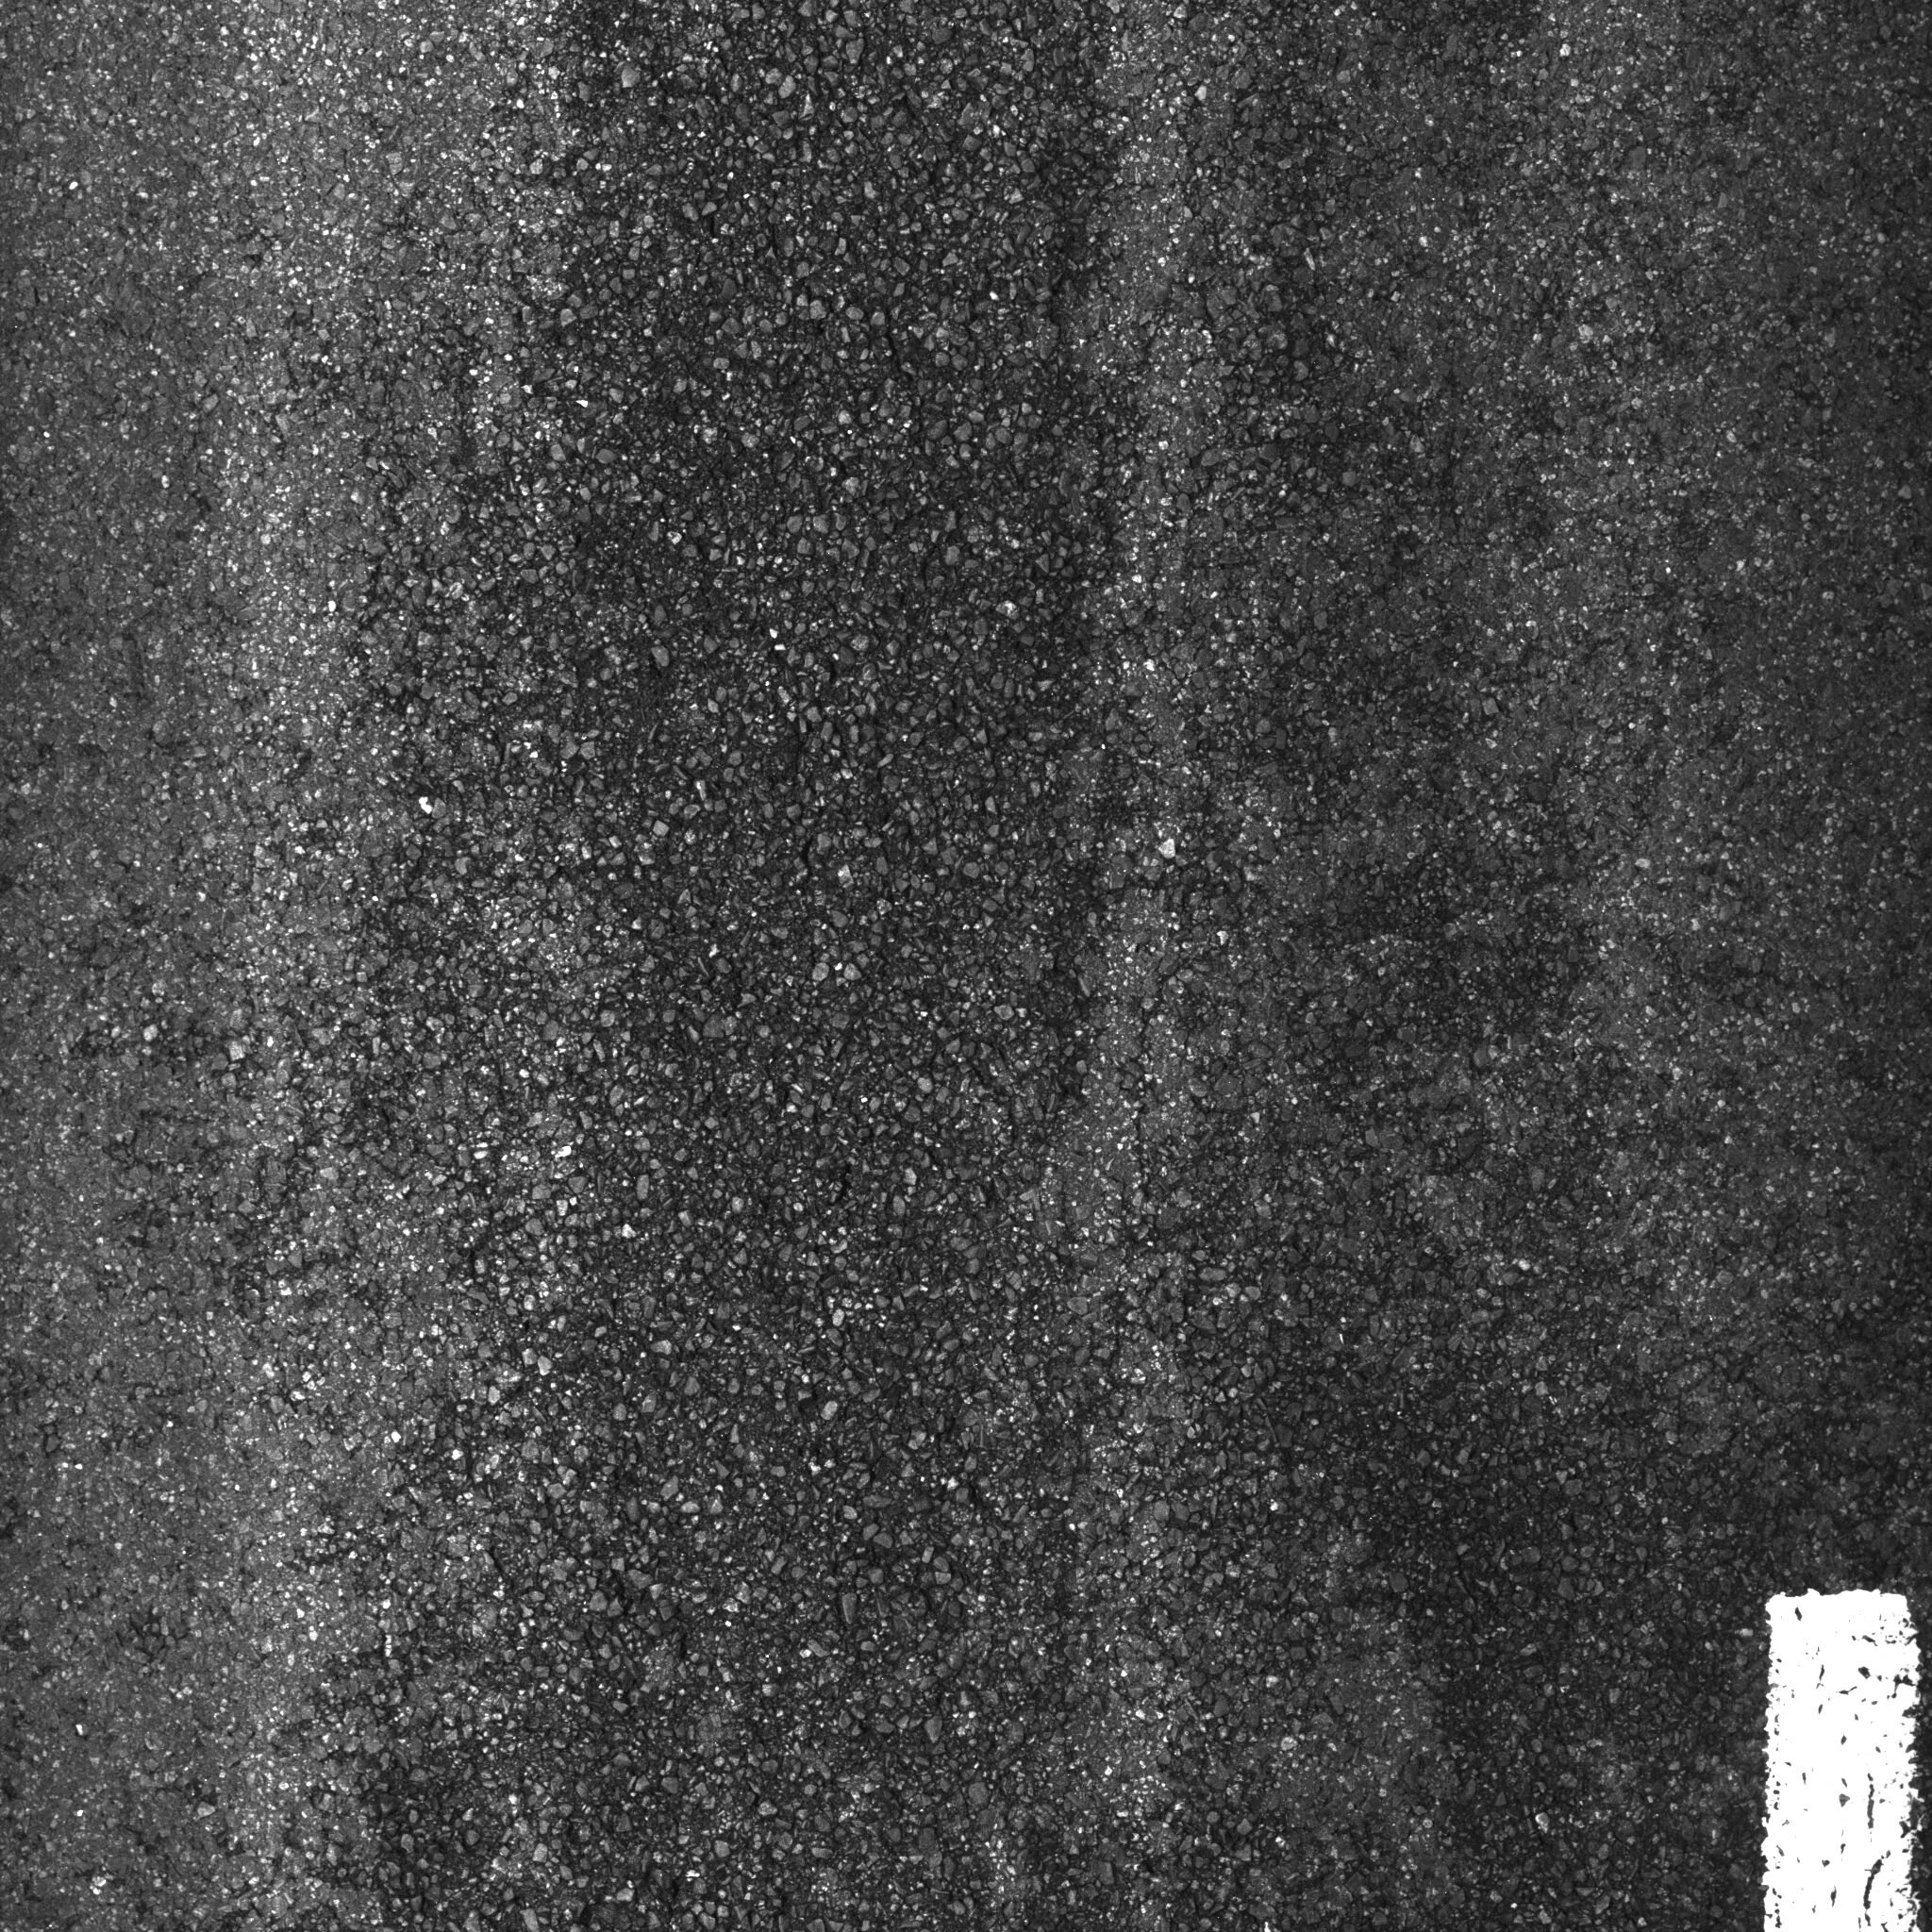alligator: (290, 16, 1702, 1624)
